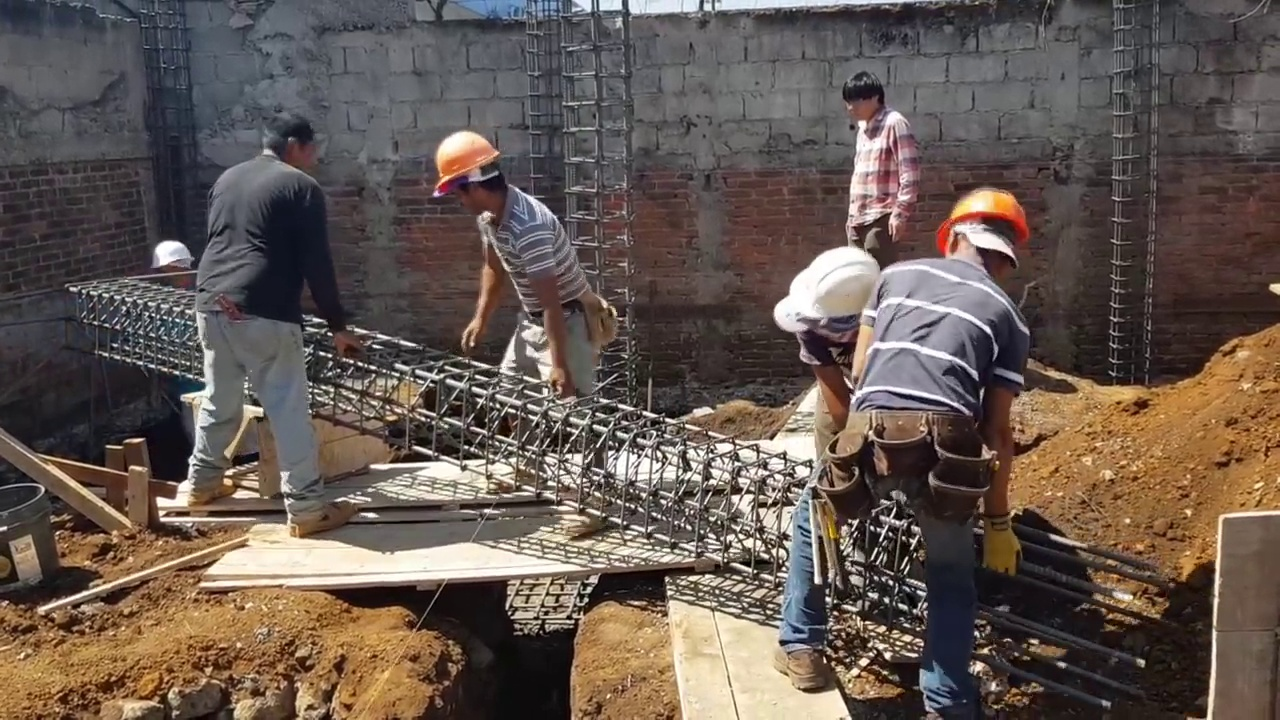helmet: (782, 247, 878, 330), (941, 189, 1028, 259), (427, 126, 505, 194), (148, 238, 189, 269)
helmet-off: (264, 112, 321, 175), (845, 70, 887, 123)
helmet-on: (771, 243, 880, 365), (928, 174, 1030, 280), (427, 132, 511, 221), (148, 231, 199, 296)
person: (776, 179, 1030, 710), (421, 116, 619, 534), (184, 106, 364, 538), (770, 248, 893, 464), (835, 68, 922, 256)
